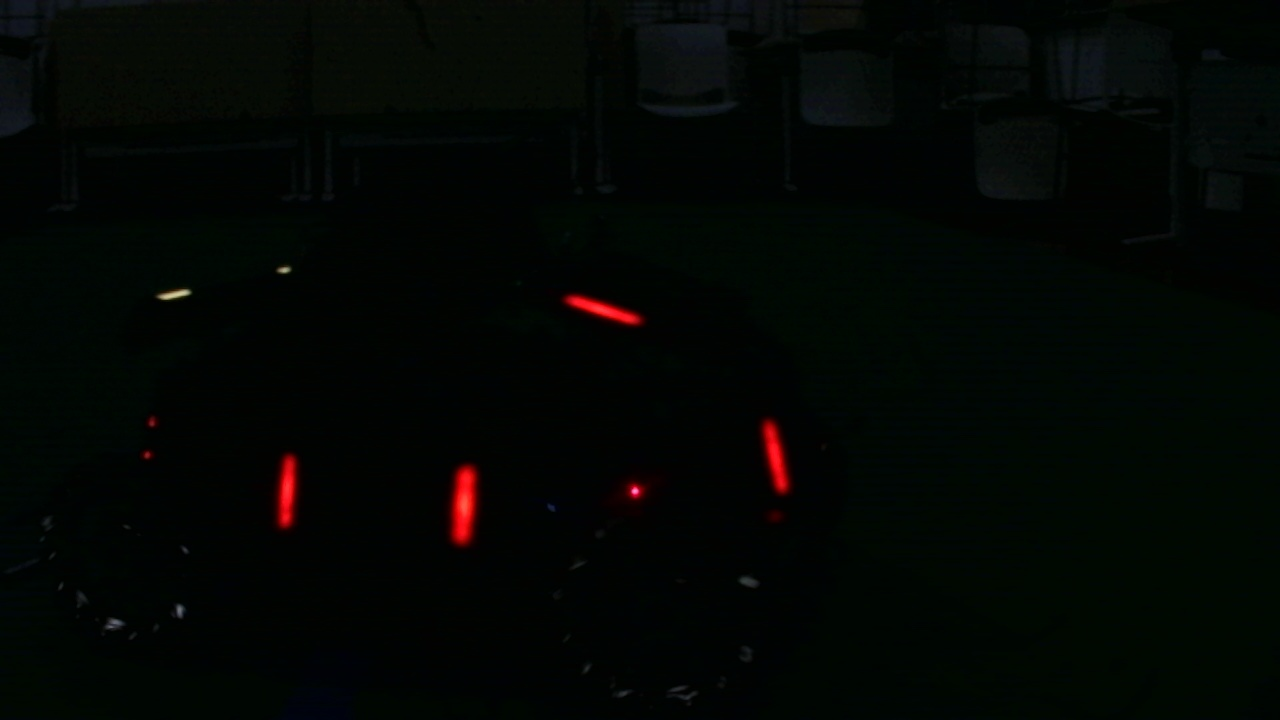lamp: (445, 454, 478, 549), (272, 449, 300, 533), (762, 417, 790, 497)
notpair1: (447, 419, 791, 553)
pair1: (272, 455, 478, 552)
